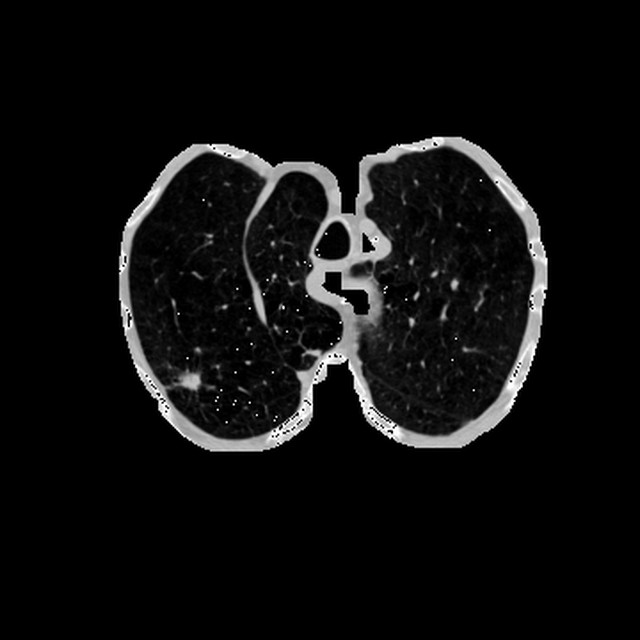PN: (172, 368, 201, 396)
